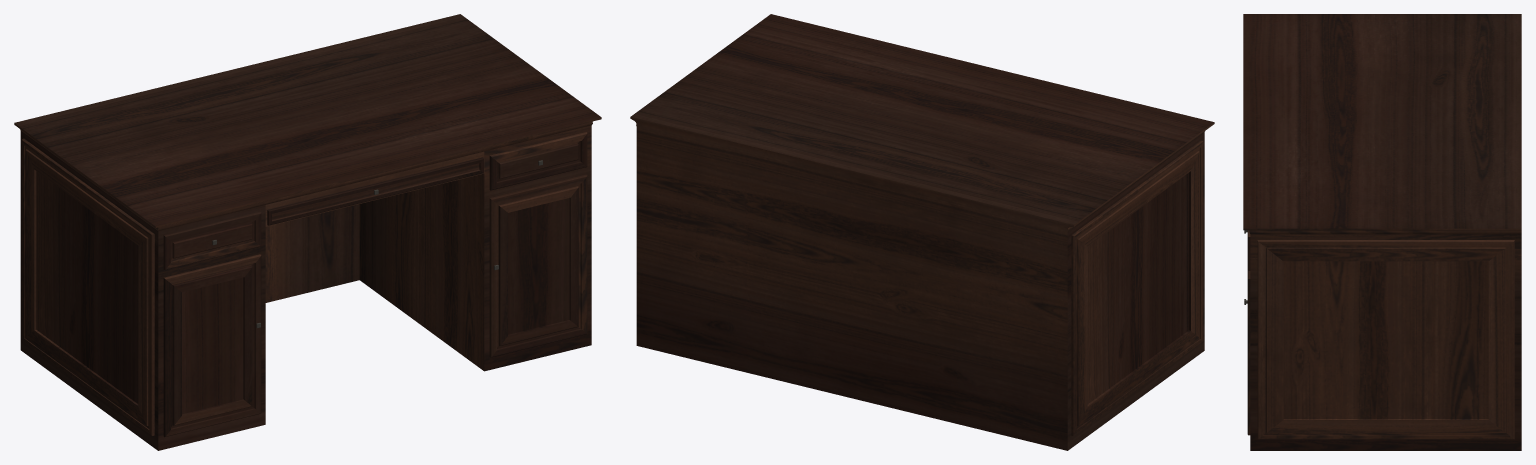
Rendered from desk.gltf.
3 renders of one model, left to right at view 1: azimuth 30°, elevation 25°; view 2: azimuth 150°, elevation 25°; view 3: azimuth 270°, elevation 25°, orthographic.
Bounding box in the file's own units: 163 × 79.99 × 89.54.
Materials: 1 (1 with a texture image).
